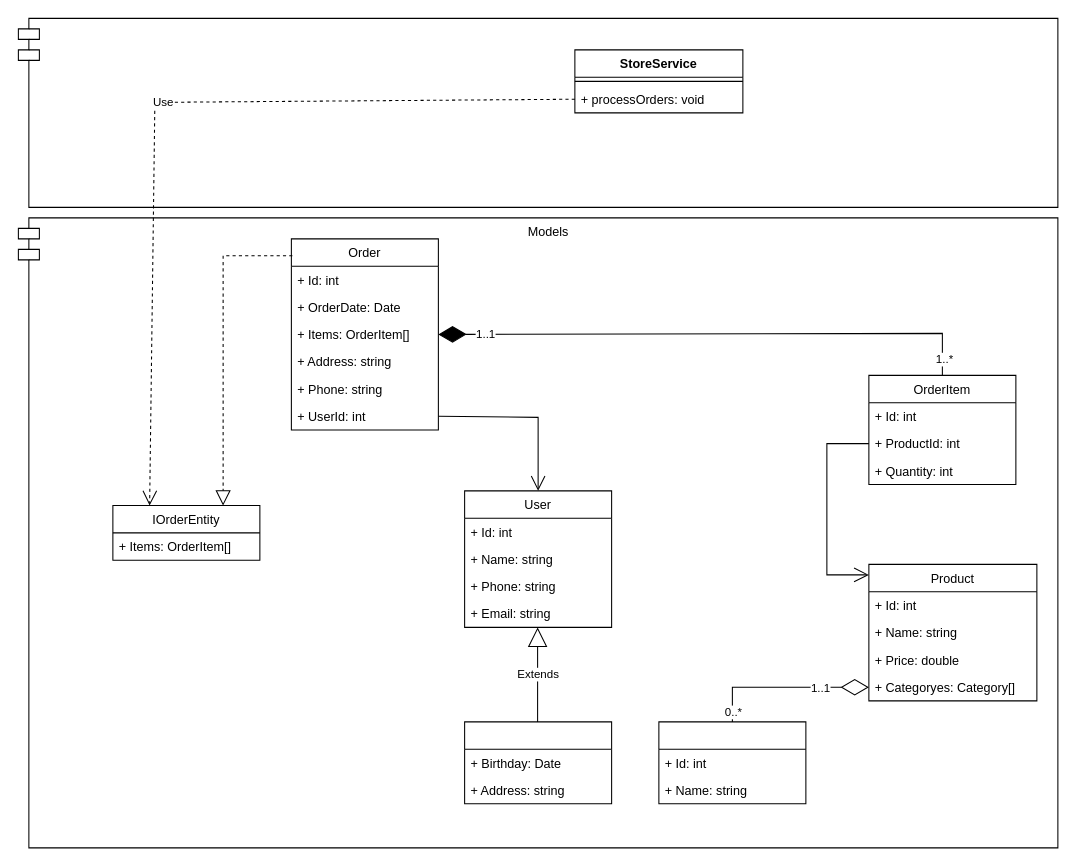
Image size: 1076x866. Some labels were removed from this diagram. The shapes that lost their labels are listed below. From the top down, each one's box as (x1, y1, x2, y2) in pixels, then its label:
(17, 17, 1058, 207): InMemory
(464, 721, 612, 804): Buyer
(658, 721, 806, 804): Category
